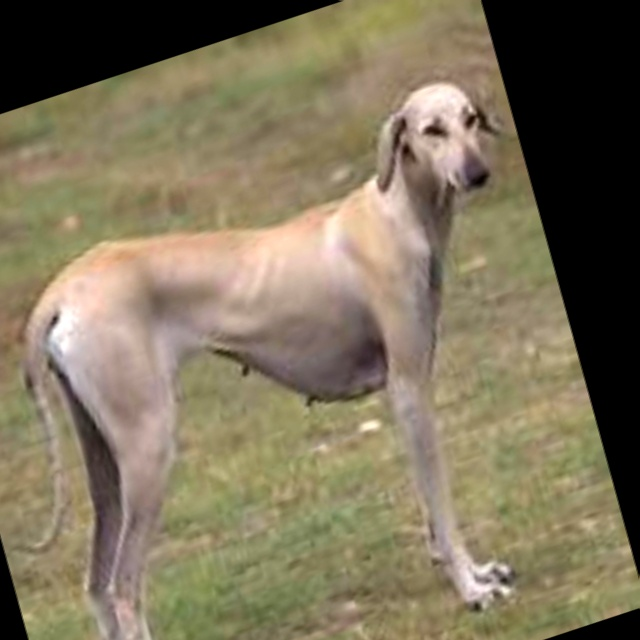dog: (0, 22, 640, 640)
